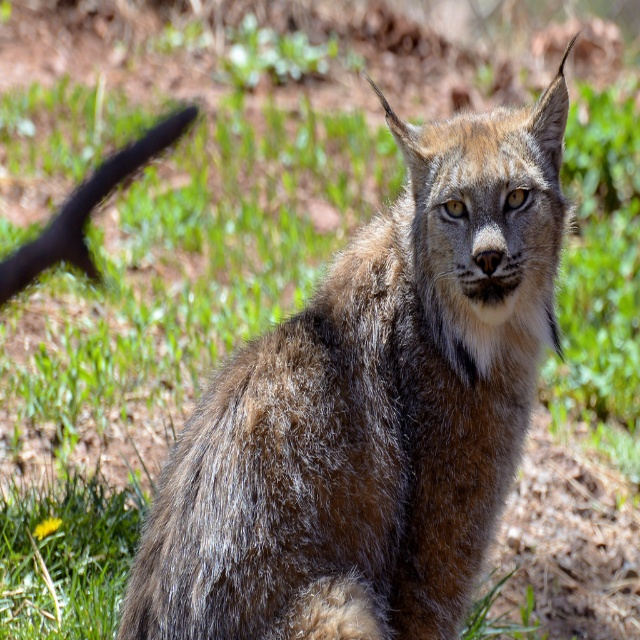Lynx: (116, 28, 586, 640)
